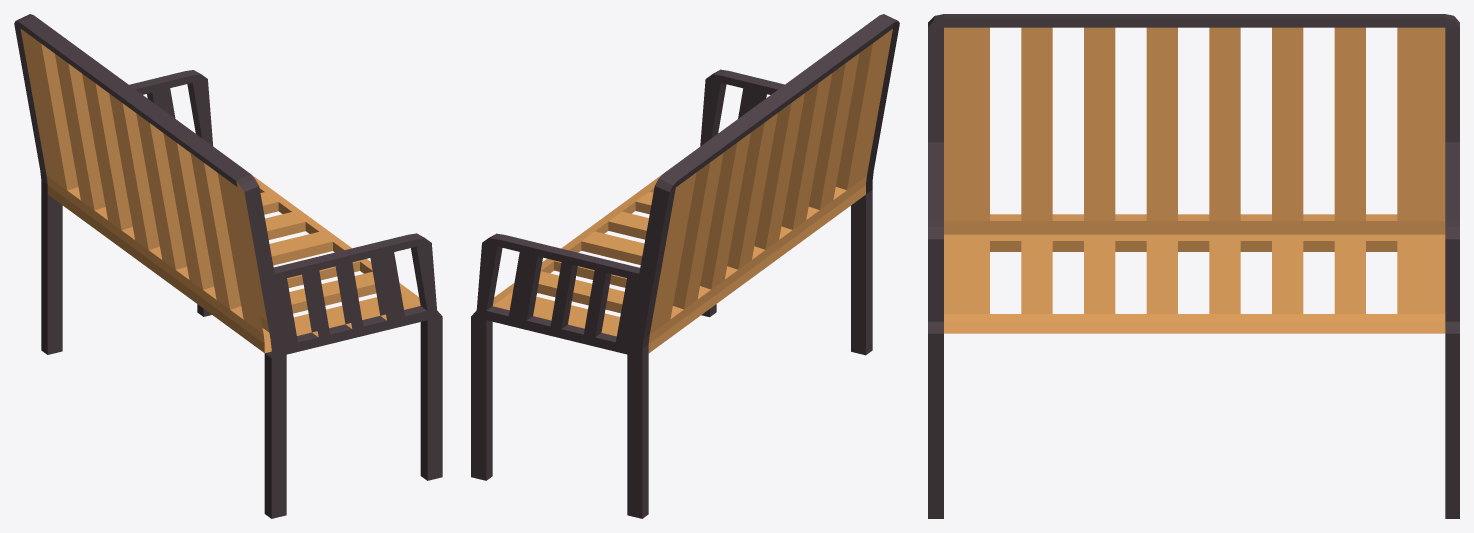
The model's file is Bench.fbx.
The picture shows the model from 3 angles, left to right: view 1: azimuth 30°, elevation 25°; view 2: azimuth 150°, elevation 25°; view 3: azimuth 270°, elevation 25°; orthographic projection. The views are drawn at different scales.
Parts seen in each view (by area): view 1: Cube; view 2: Cube; view 3: Cube.
Part boxes in pixels (box(x1,y1,x2,y2)): Cube: box(14, 14, 442, 518); Cube: box(471, 14, 899, 518); Cube: box(928, 14, 1459, 518).
Size of the model in its own units: 215 by 353 by 429.
